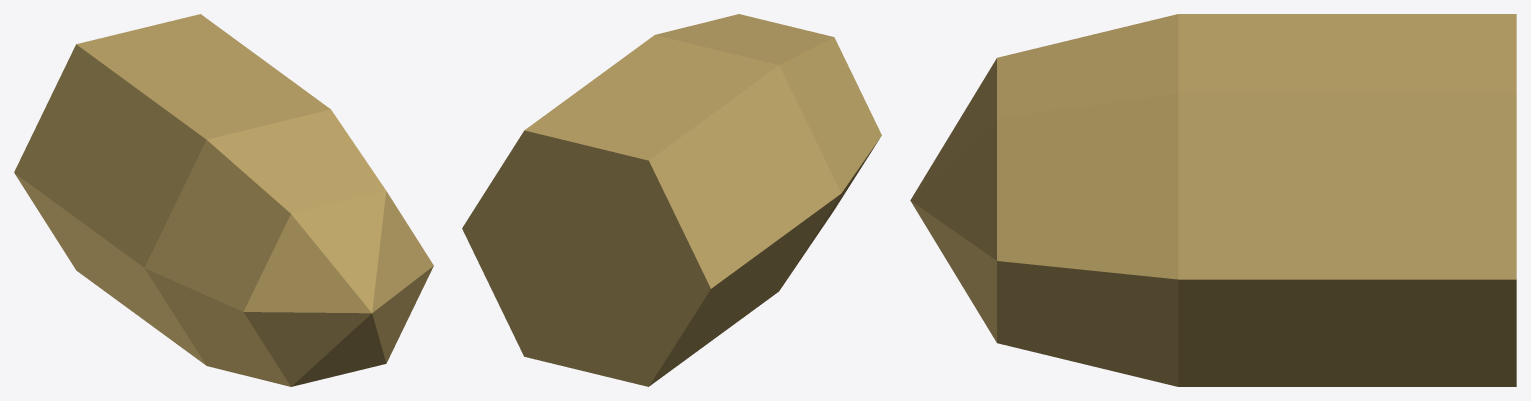
File: grenade_launcher_40mm_grenade 1.fbx
3 renders of one model, left to right at view 1: azimuth 30°, elevation 25°; view 2: azimuth 150°, elevation 25°; view 3: azimuth 270°, elevation 25°, orthographic. The views are drawn at different scales.
Visible parts, largest first — view 1: grenades_A; view 2: grenades_A; view 3: grenades_A.
Part boxes in pixels (x1=…): grenades_A: x1=14, y1=14, x2=433, y2=386; grenades_A: x1=462, y1=14, x2=881, y2=386; grenades_A: x1=910, y1=14, x2=1516, y2=386.
Size of the model in its own units: 4.36 by 3.79 by 7.09.
